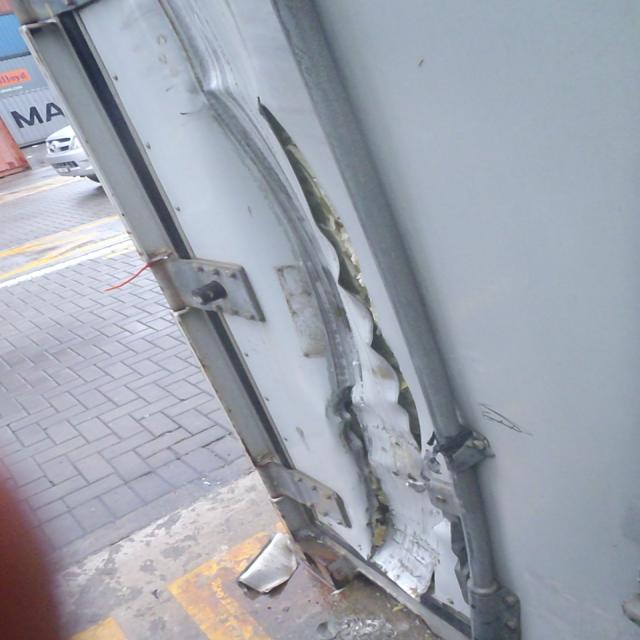dent: (180, 40, 249, 136)
